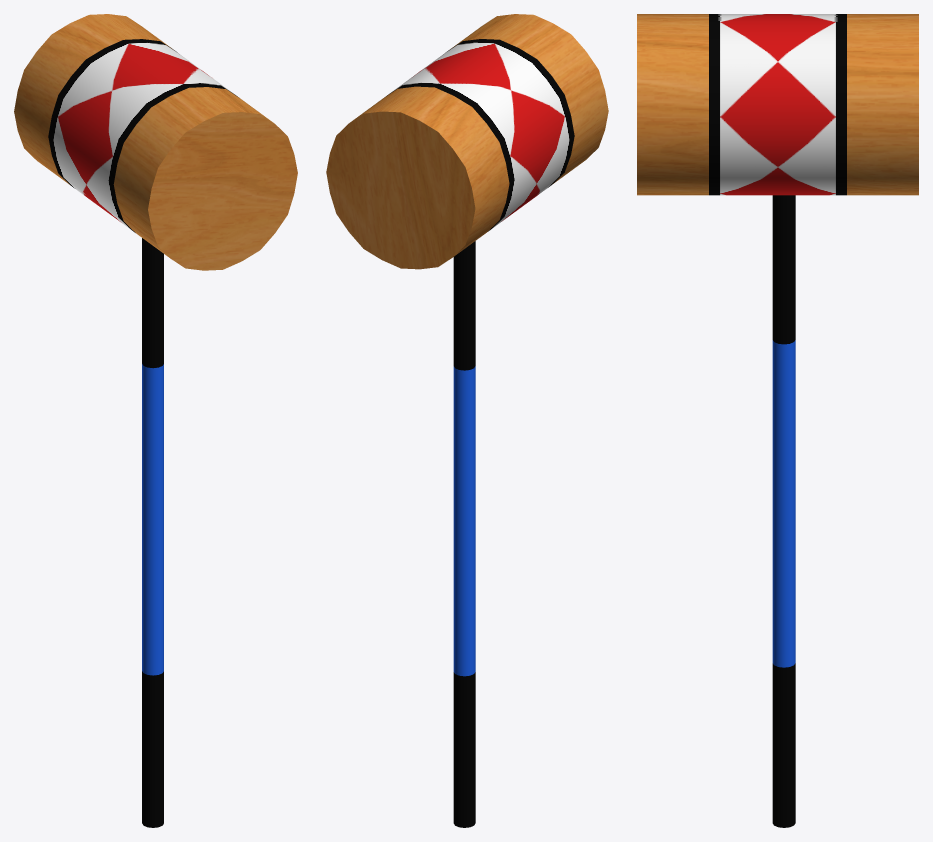
Rendered from Martillo.obj.
3 views of the same model, side by side, from view 1: azimuth 30°, elevation 25°; view 2: azimuth 150°, elevation 25°; view 3: azimuth 270°, elevation 25° (orthographic). The views are drawn at different scales.
Parts seen in each view (by area): view 1: Martillo; view 2: Martillo; view 3: Martillo.
Part boxes in pixels (x1,y1,x2,y2): Martillo: [14, 14, 297, 827]; Martillo: [326, 14, 608, 827]; Martillo: [637, 14, 918, 827].
Size of the model in its own units: 0.2457 by 1.19 by 0.38.
4 materials, 4 textured.
